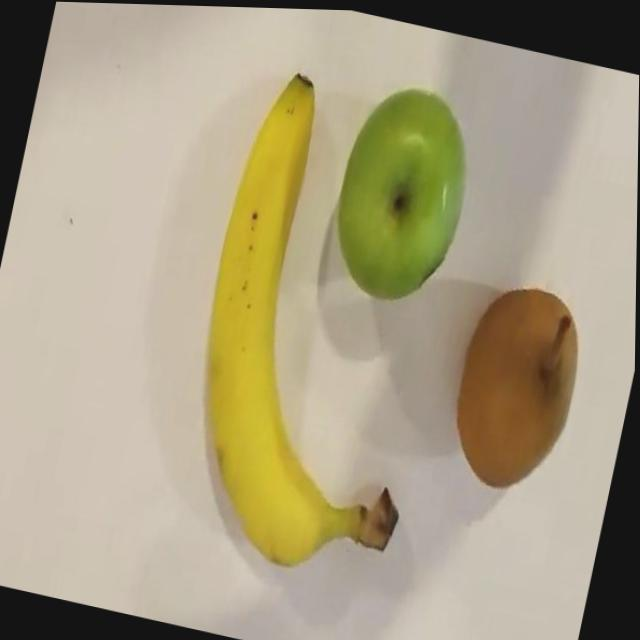Apple: (320, 70, 485, 310), (439, 271, 594, 498)
Banana: (161, 58, 484, 589)
